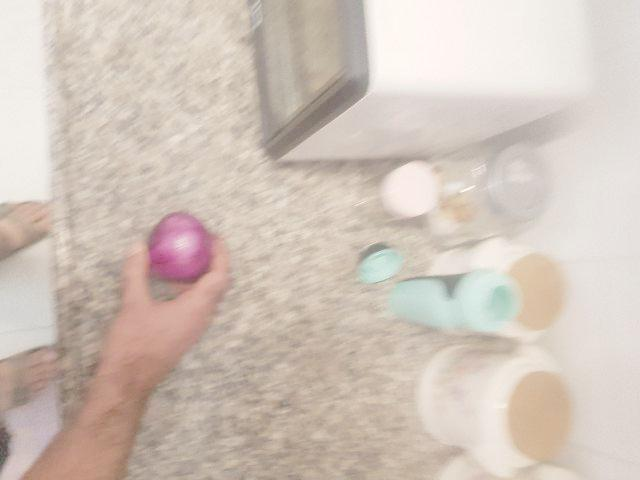onion: (117, 209, 217, 303)
